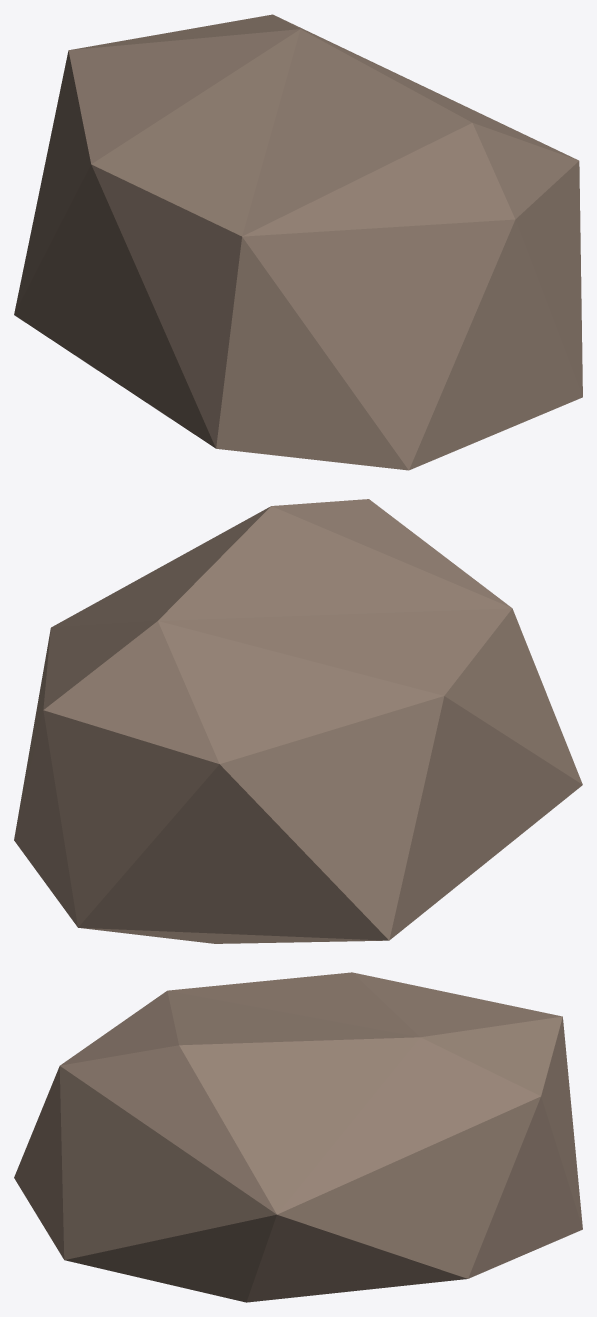
File: Rock8.fbx
3 renders of one model, top to bottom at view 1: azimuth 30°, elevation 25°; view 2: azimuth 150°, elevation 25°; view 3: azimuth 270°, elevation 25°, orthographic. The views are drawn at different scales.
Parts seen in each view (by area): view 1: Rock8; view 2: Rock8; view 3: Rock8.
Part boxes in pixels (box(x1,y1,x2,y2)): Rock8: box(14, 14, 582, 470); Rock8: box(14, 499, 582, 943); Rock8: box(14, 972, 582, 1302).
Bounding box in the file's own units: 0.4844 × 0.3118 × 0.625.
